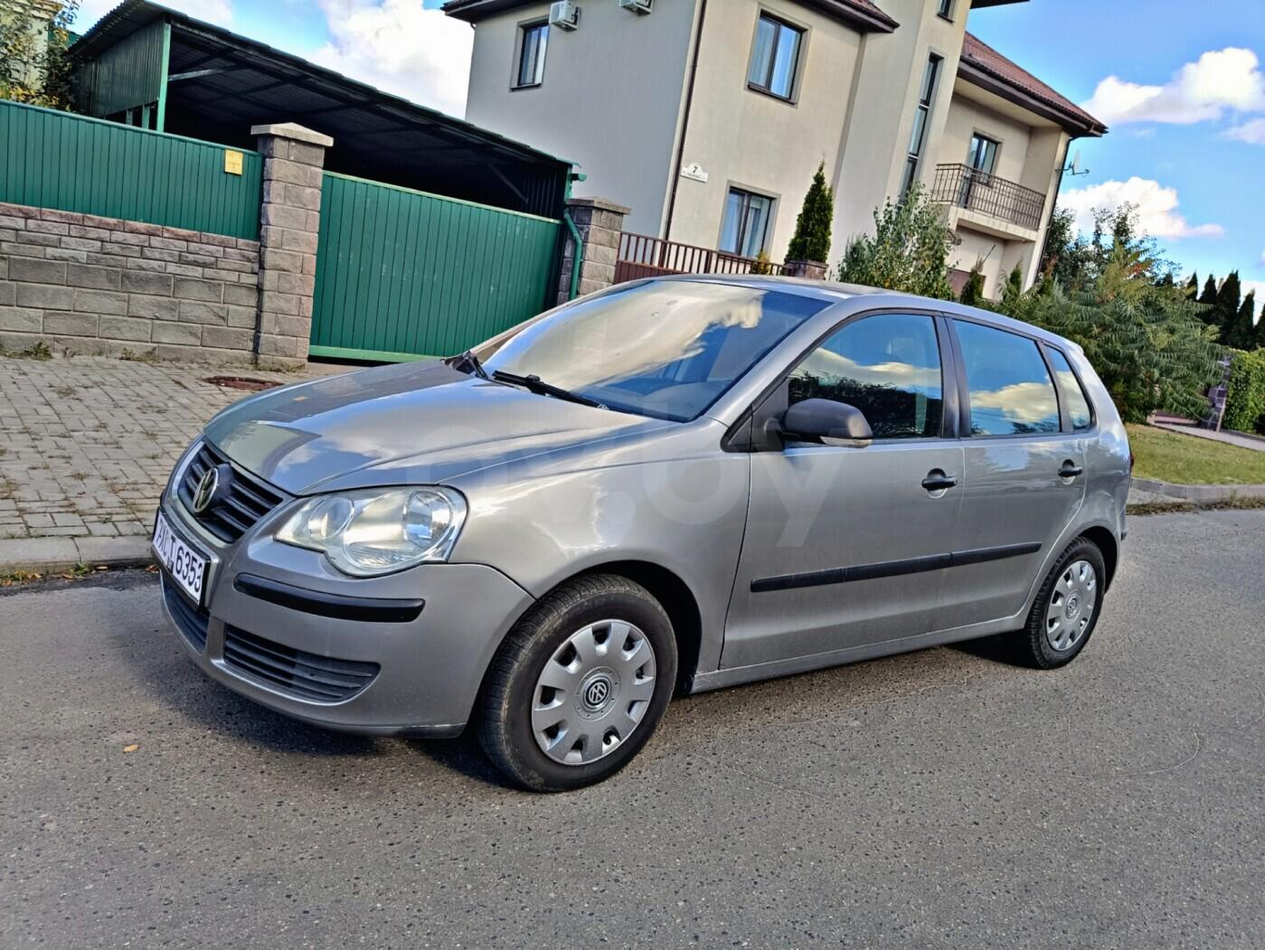Polo_2005-2009: (161, 269, 1148, 794)
